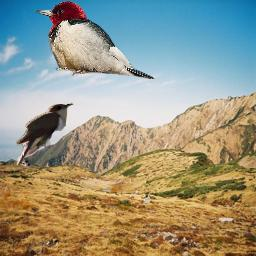Cuckoo: (14, 102, 74, 174)
Woodpecker: (34, 1, 156, 79)
